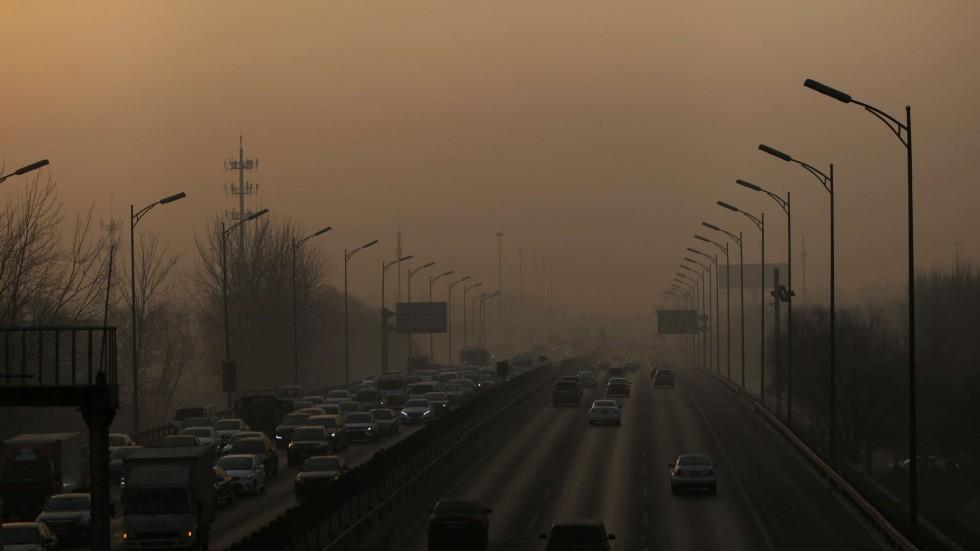bus: (117, 447, 219, 551), (1, 430, 86, 527), (235, 390, 296, 435), (172, 398, 217, 435), (457, 345, 490, 375)
car: (424, 498, 495, 551), (34, 492, 99, 544), (293, 454, 353, 501), (538, 516, 617, 551), (82, 434, 141, 479), (230, 434, 280, 480), (215, 453, 266, 497), (667, 453, 719, 495), (286, 426, 336, 467), (1, 518, 57, 551), (303, 413, 348, 453), (197, 464, 234, 510), (275, 411, 314, 448), (153, 434, 202, 463), (339, 409, 380, 443), (209, 419, 251, 452), (178, 425, 217, 452), (367, 407, 401, 437), (375, 376, 410, 405), (306, 413, 348, 437), (400, 398, 437, 425), (586, 399, 623, 425), (406, 380, 444, 405), (275, 385, 307, 413), (352, 387, 384, 414), (422, 391, 454, 416), (552, 381, 581, 408), (324, 389, 358, 409), (558, 375, 585, 400), (337, 399, 365, 423), (299, 394, 326, 417), (378, 389, 407, 410), (440, 383, 466, 406), (604, 377, 633, 397), (653, 368, 675, 389), (575, 370, 599, 389), (604, 367, 625, 384), (621, 360, 636, 374)
